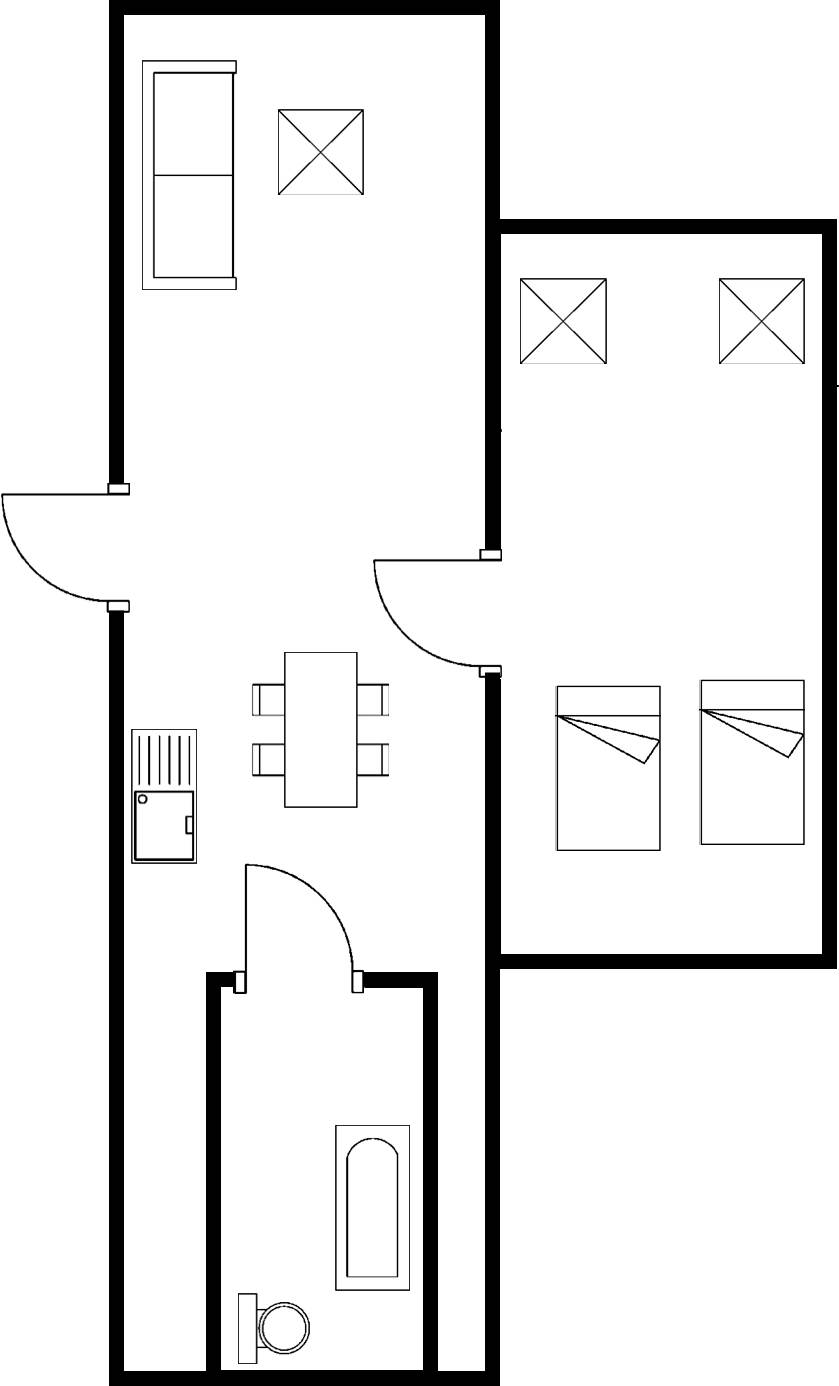bed: (546, 675, 671, 860), (691, 672, 813, 856)
coffee_table: (513, 271, 618, 376), (710, 271, 815, 376), (272, 99, 372, 207)
dining_table: (246, 645, 395, 819)
large_sink: (229, 1287, 314, 1368)
large_sofa: (134, 50, 244, 300)
sink: (123, 719, 207, 873)
tub: (326, 1117, 419, 1302)
